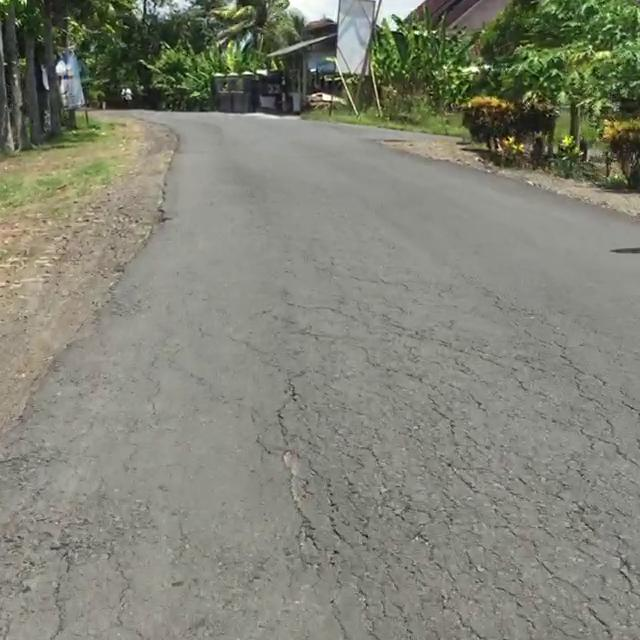retak_kulit_buaya: (254, 341, 640, 640)
